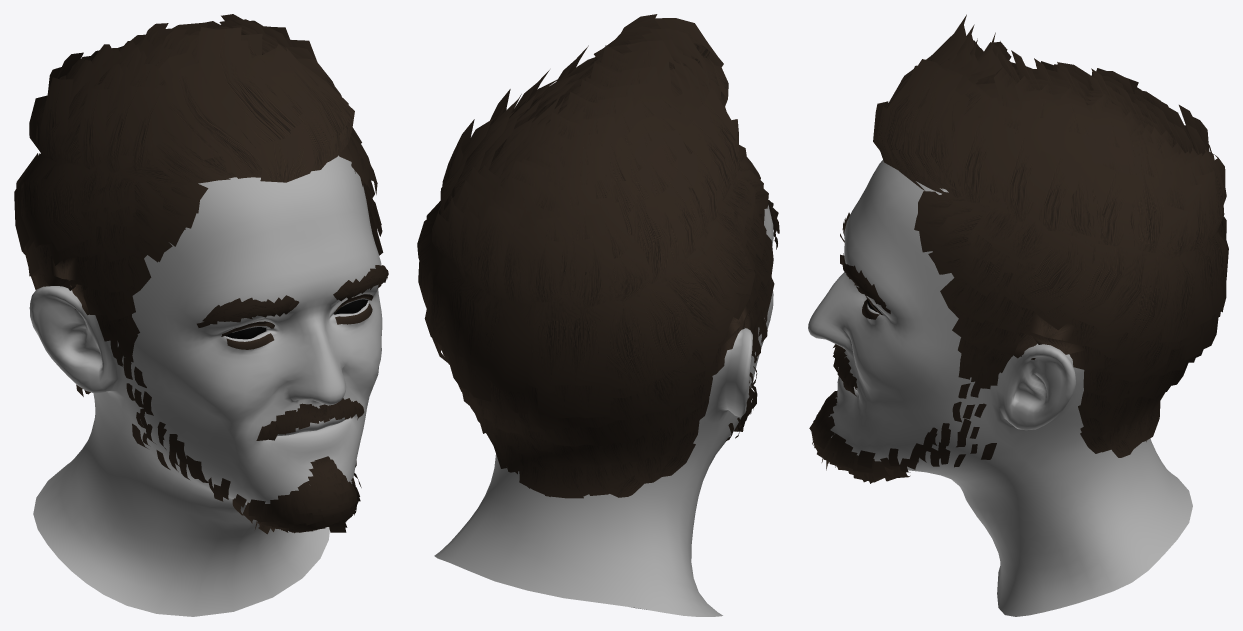
The model's file is tom_exp01.fbx.
3 renders of one model, left to right at view 1: azimuth 30°, elevation 25°; view 2: azimuth 150°, elevation 25°; view 3: azimuth 270°, elevation 25°, orthographic. The views are drawn at different scales.
Parts seen in each view (by area): view 1: head, top_hair, side_hair01, facial_hair, side_hair02, shine; view 2: top_hair, side_hair01, head, side_hair02, facial_hair; view 3: head, top_hair, side_hair01, facial_hair, side_hair02.
Part boxes in pixels (left/top/right/bottom): head: left=29, top=155, right=382, bottom=616; top_hair: left=29, top=14, right=354, bottom=186; side_hair01: left=14, top=127, right=383, bottom=396; facial_hair: left=110, top=265, right=388, bottom=534; side_hair02: left=21, top=136, right=377, bottom=393; shine: left=225, top=299, right=367, bottom=339; top_hair: left=432, top=14, right=740, bottom=392; side_hair01: left=417, top=159, right=774, bottom=498; head: left=434, top=205, right=773, bottom=616; side_hair02: left=428, top=145, right=768, bottom=474; facial_hair: left=725, top=200, right=779, bottom=441; head: left=808, top=160, right=1192, bottom=616; top_hair: left=873, top=14, right=1228, bottom=312; side_hair01: left=928, top=200, right=1226, bottom=457; facial_hair: left=809, top=212, right=998, bottom=483; side_hair02: left=914, top=191, right=1195, bottom=431.
Bounding box in the file's own units: 1.59 × 2.8 × 1.92.
